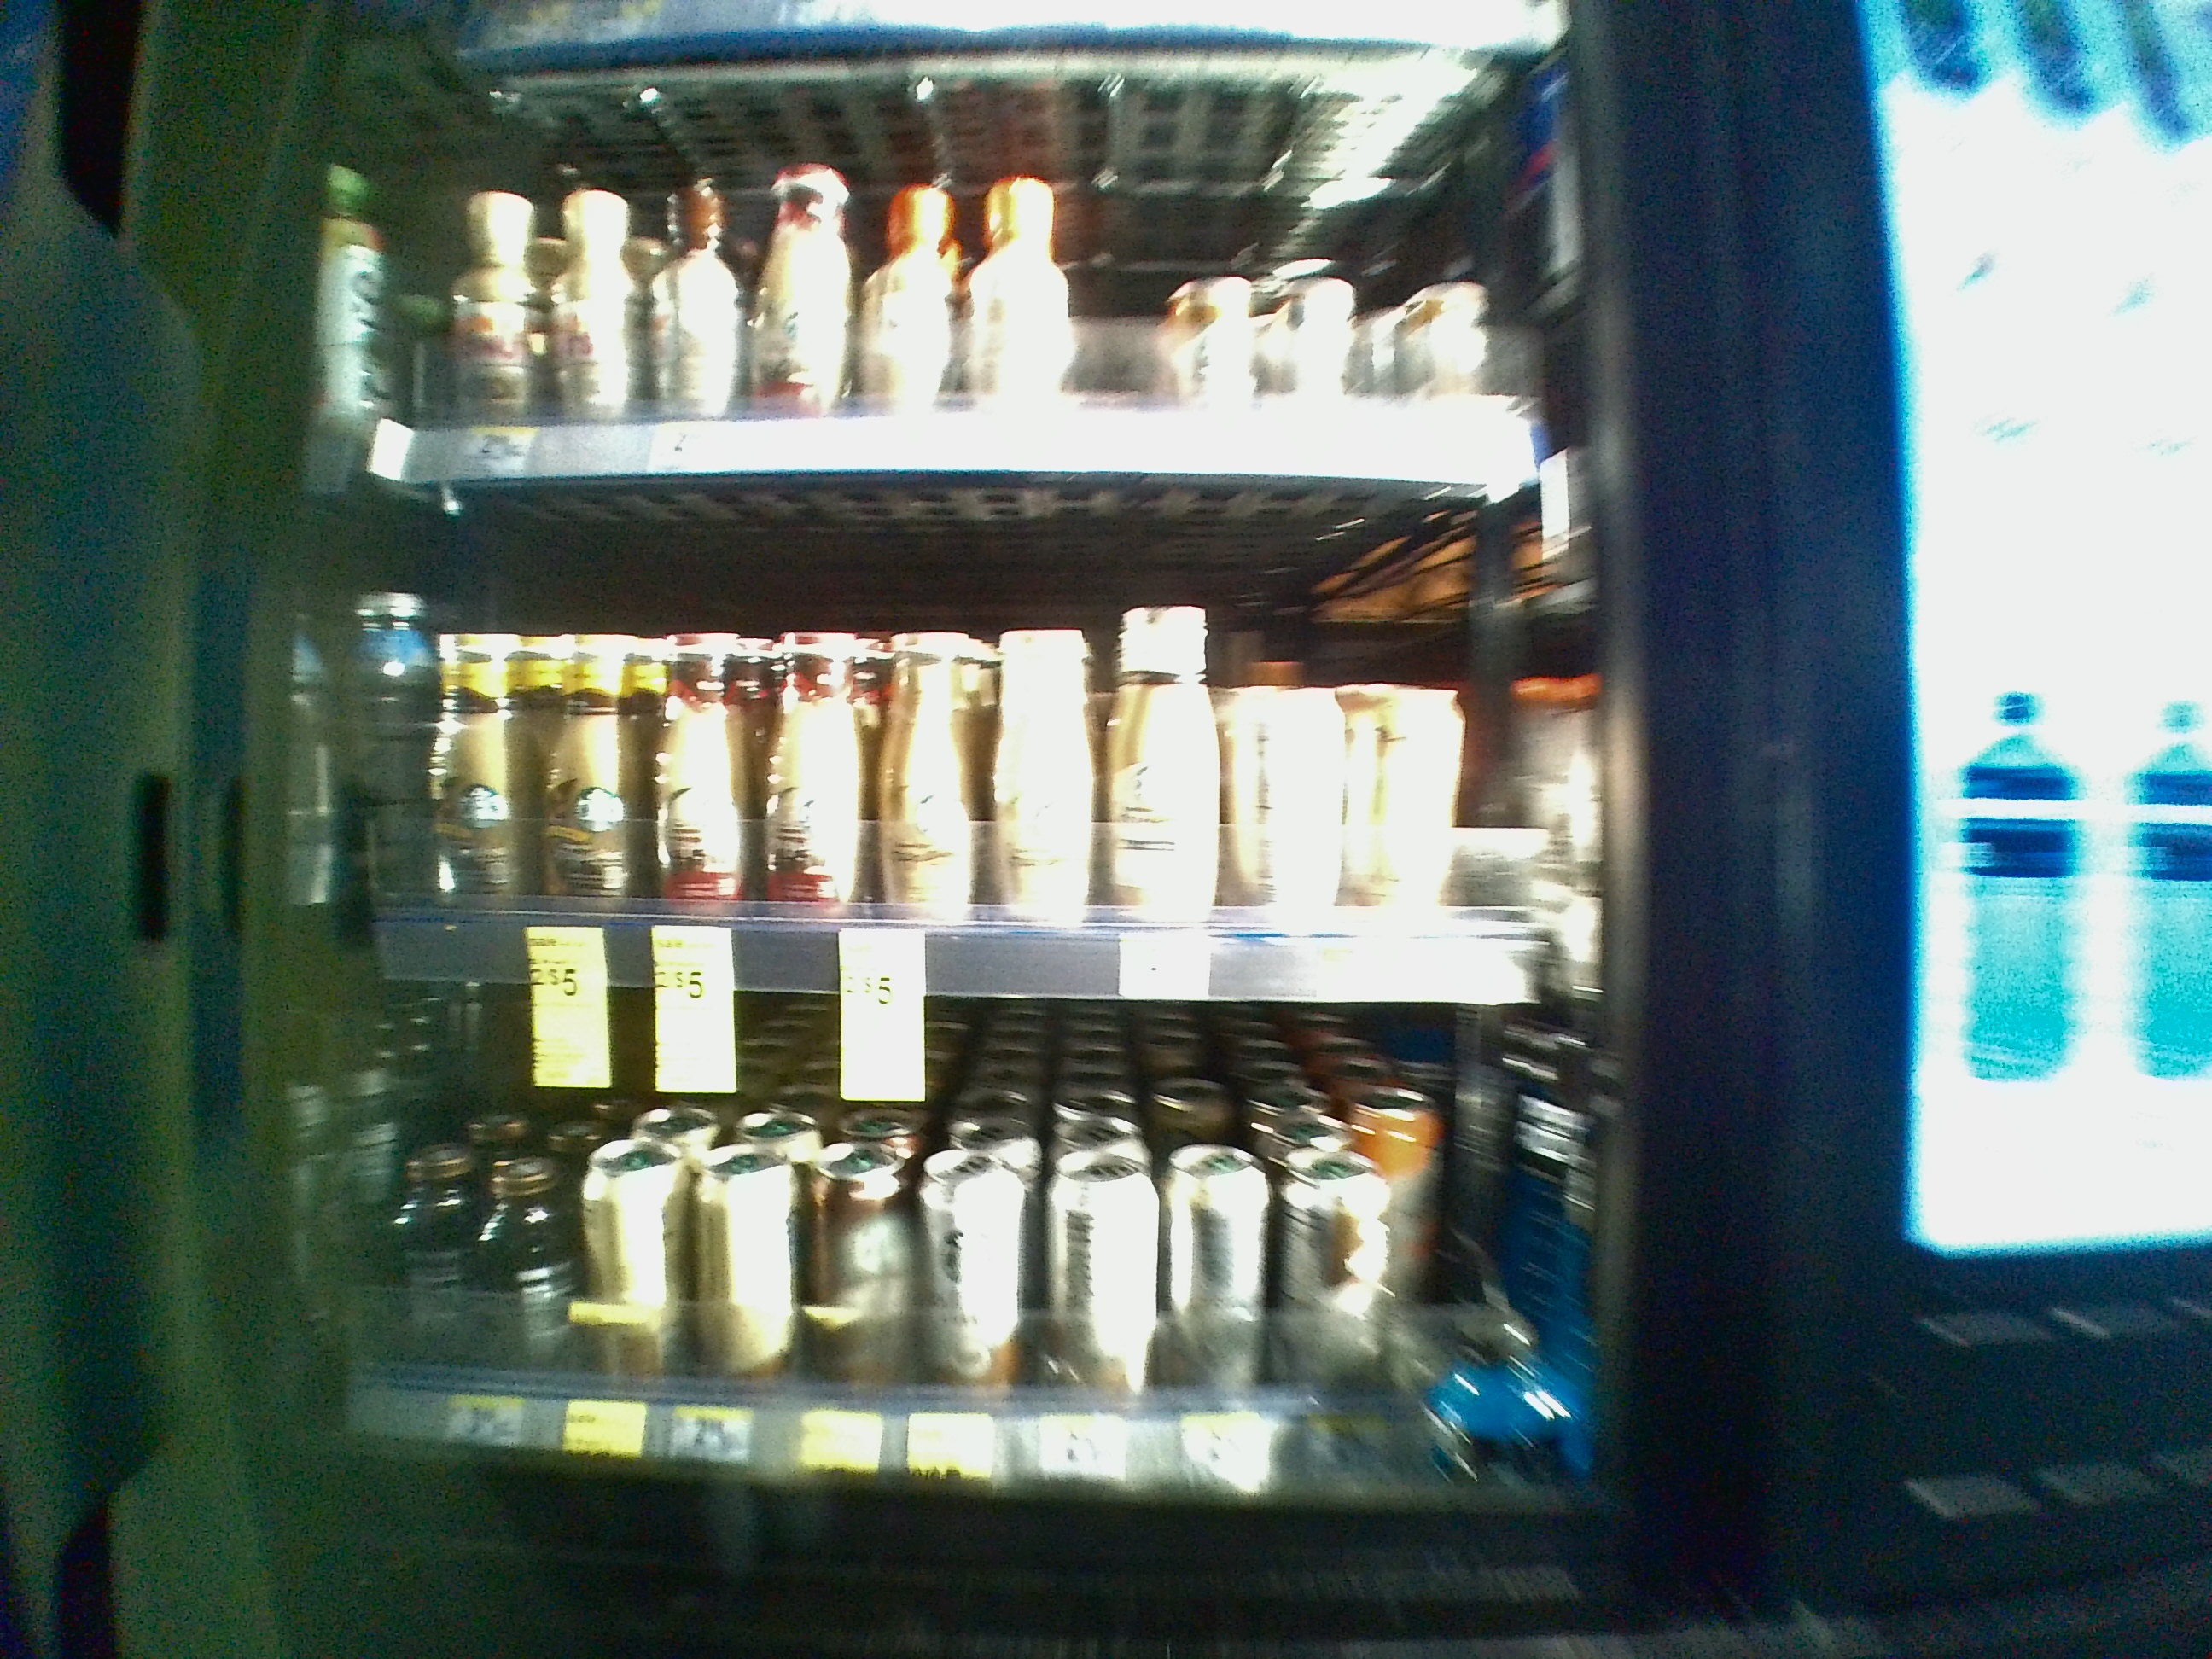shelf: (279, 981, 1644, 1520), (287, 477, 1648, 993)
